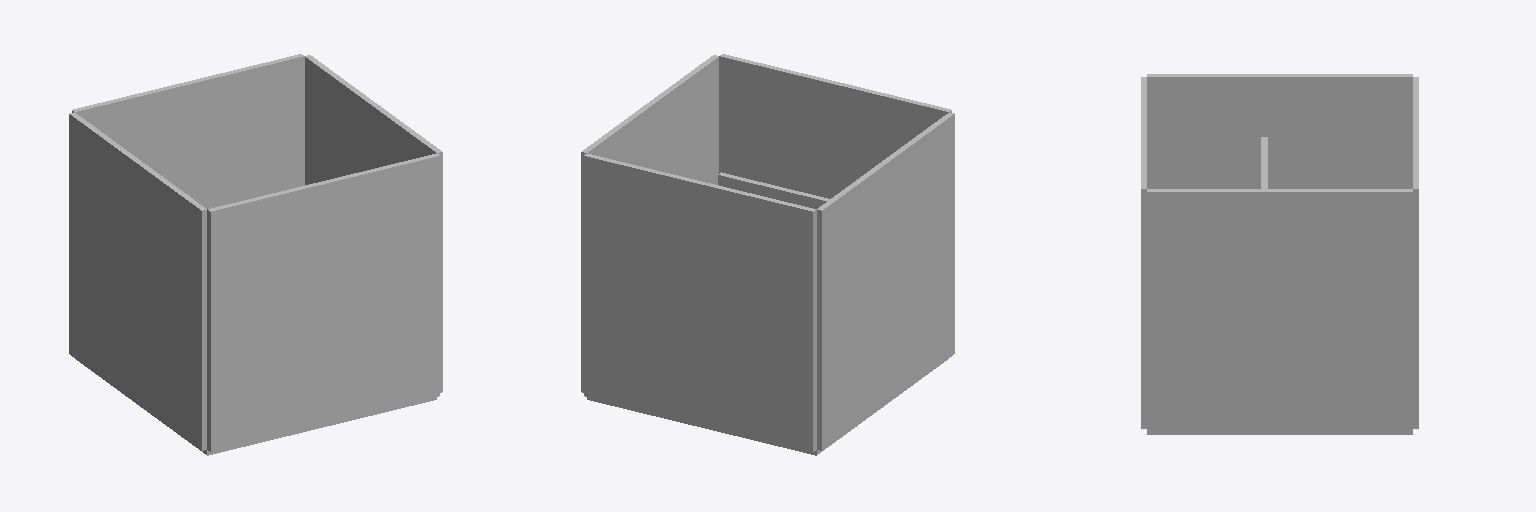
Rendered from test_level_empty_notex2.obj.
3 views of the same model, side by side, from view 1: azimuth 30°, elevation 25°; view 2: azimuth 150°, elevation 25°; view 3: azimuth 270°, elevation 25° (orthographic).
Parts seen in each view (by area): view 1: Cube.004, Cube.001, Cube.003, Cube.002, Cube; view 2: Cube.003, Cube.001, Cube.004, Cube.002, Cube.005, Cube; view 3: Cube.002, Cube.001, Cube.003, Cube.004, Cube.
Boxes of the visible parts, x1,y1,x2,y2 form: Cube.004: [207, 153, 439, 451]; Cube.001: [69, 112, 206, 450]; Cube.003: [72, 54, 304, 208]; Cube.002: [305, 55, 442, 392]; Cube: [77, 360, 436, 455]; Cube.003: [584, 153, 816, 451]; Cube.001: [817, 112, 954, 450]; Cube.004: [719, 54, 951, 198]; Cube.002: [581, 55, 718, 392]; Cube.005: [718, 172, 829, 208]; Cube: [587, 360, 946, 455]; Cube.002: [1147, 189, 1412, 431]; Cube.001: [1147, 74, 1412, 188]; Cube.003: [1413, 77, 1418, 428]; Cube.004: [1141, 77, 1146, 428]; Cube: [1147, 432, 1412, 434].
Size of the model in its own units: 42 by 41 by 42.